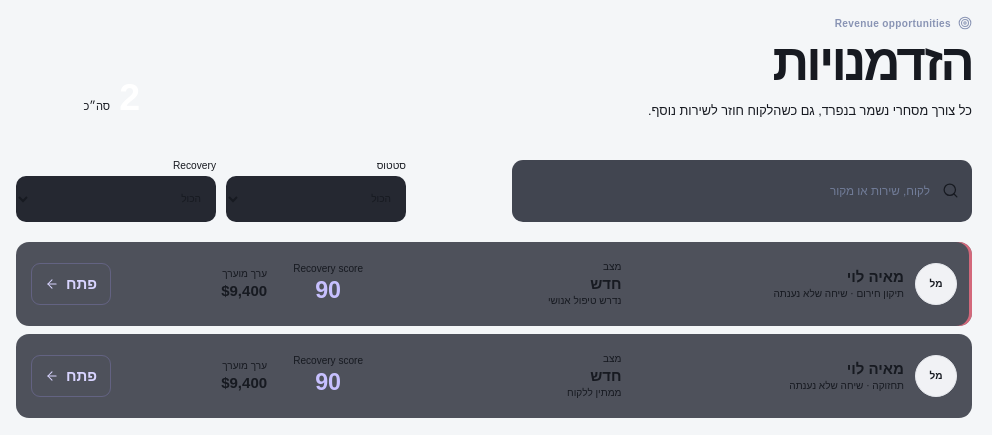
production owner pages › filters opportunities without collapsing multiple commercial needs into the customer record
Expected: the text "תיקון חירום · שיחה שלא נענתה" is shown, [774,288,904,299]
In the search field named "חיפוש הזדמנויות": (728, 191) [525,183,932,198], type "MAINTENANCE"
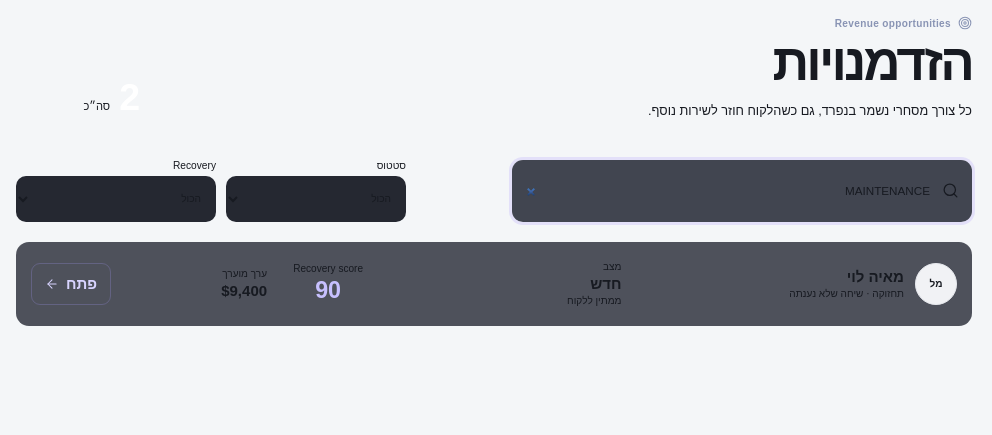
Expected: the text "תחזוקה · שיחה שלא נענתה" is shown, [789,288,904,299]
Expected: the text "תיקון חירום · שיחה שלא נענתה" is gone
